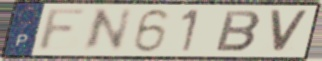1: (179, 8, 201, 54)
6: (130, 7, 173, 55)
B: (213, 9, 264, 54)
F: (34, 6, 91, 53)
N: (79, 7, 136, 54)
V: (267, 9, 311, 55)
